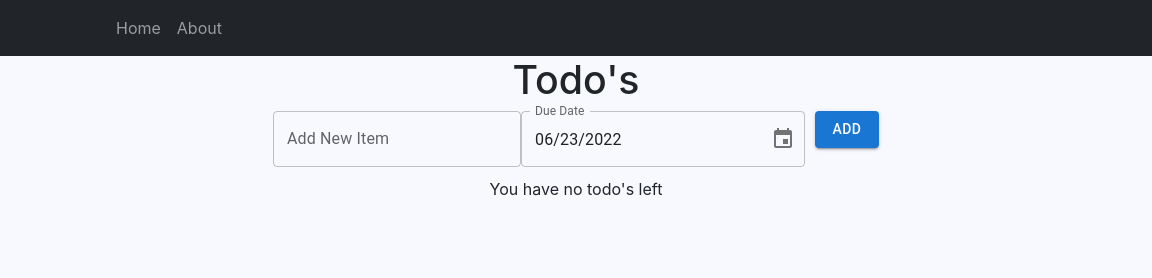
Test: Delete Task
Type "Test3" into the field labelled "Add New Item" at (397, 139), box top-left (273, 111), bottom-right (521, 167)
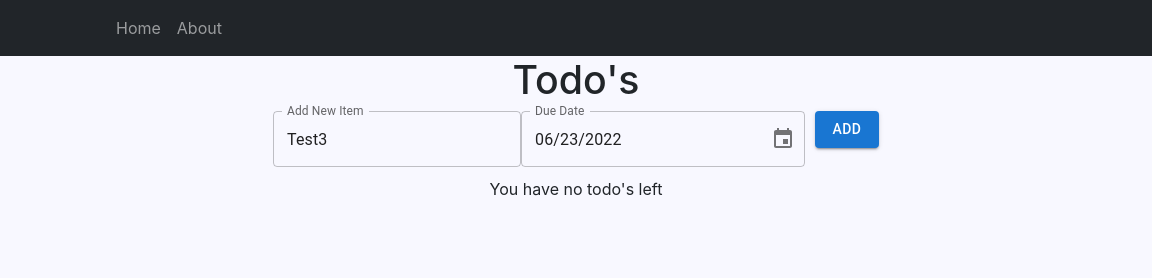
Replace the text in the field with placeholder "mm/dd/yyyy" with "06/22/2023" at (638, 139), box top-left (521, 111), bottom-right (755, 167)
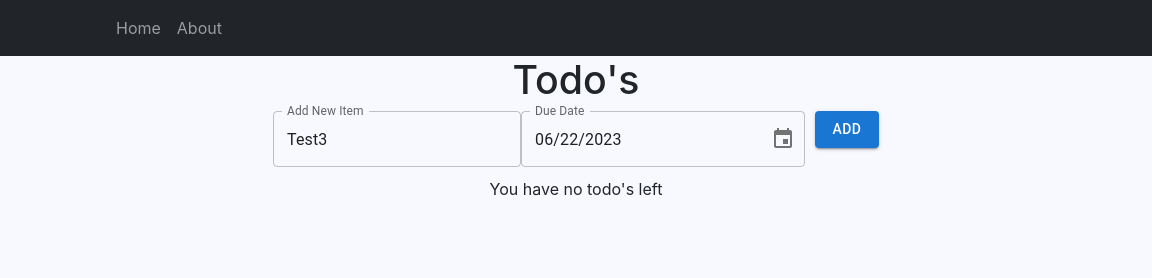
Click the button "Add" at (847, 129), box top-left (815, 111), bottom-right (879, 148)
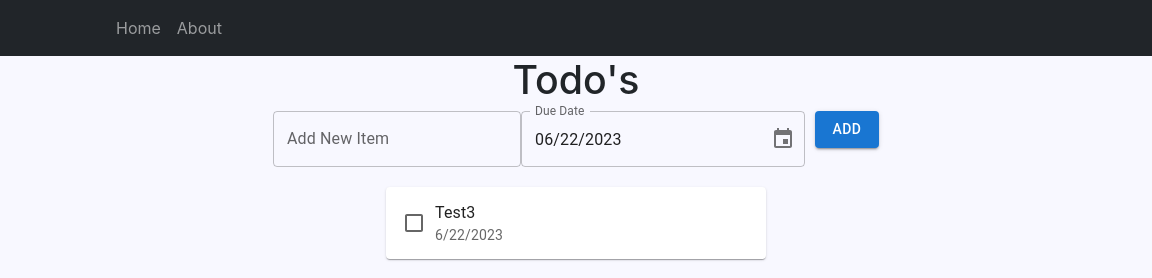
Click the checkbox at (414, 223), box top-left (402, 211), bottom-right (426, 235)
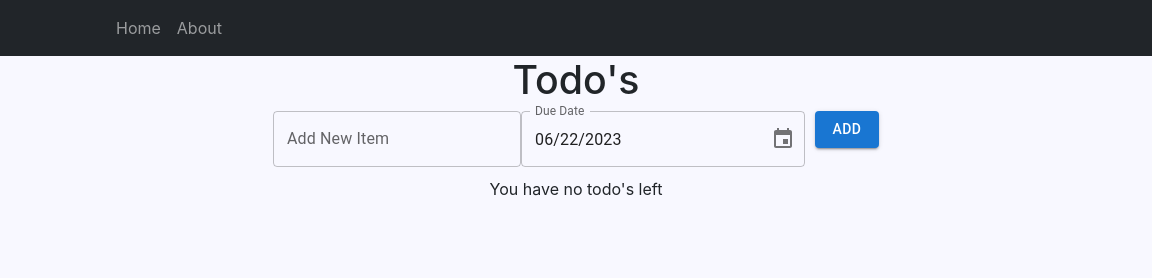
Expected: the link "Test3" is gone
